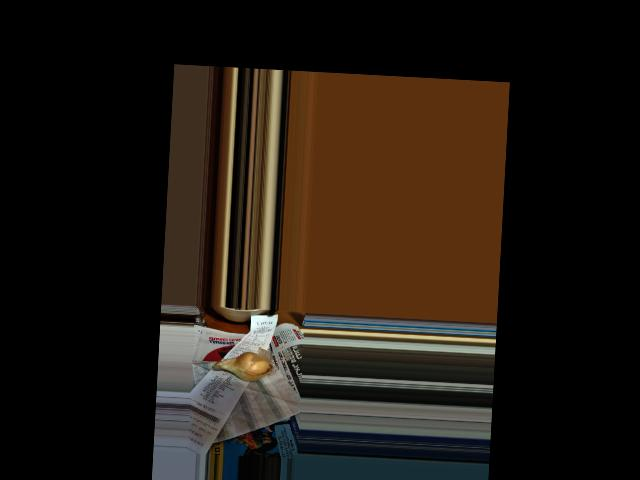onion: (218, 352, 270, 383)
